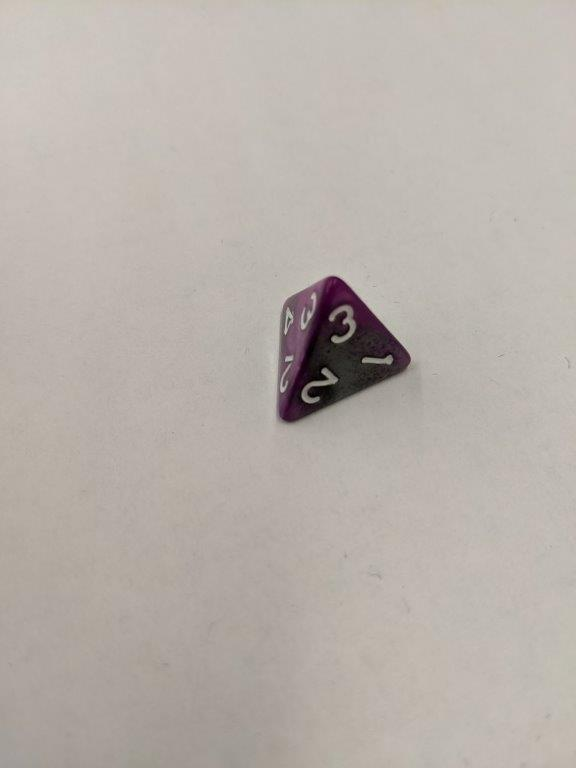d4-3: (270, 270, 414, 429)
